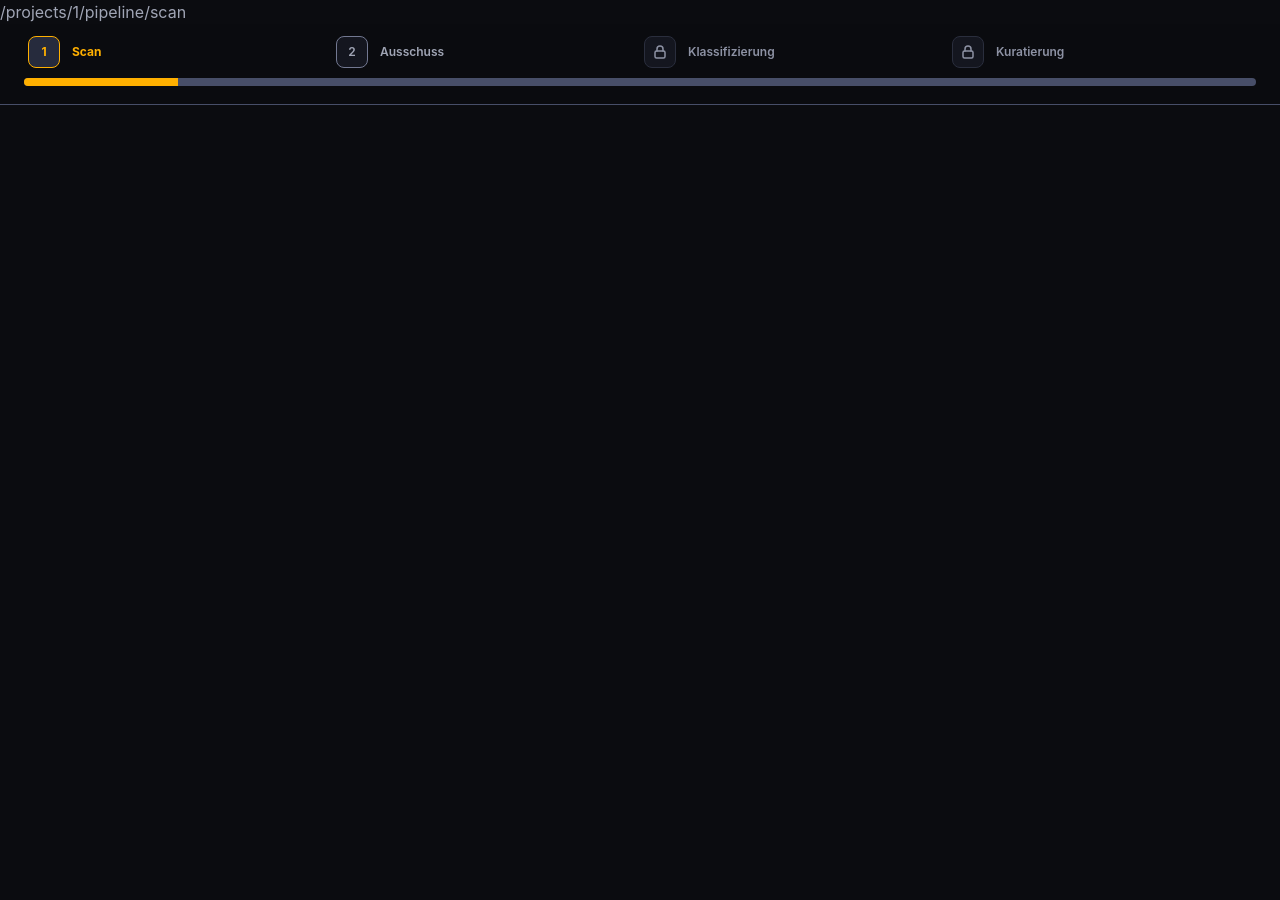
Test: Stepper › shows the criterion-scoring reason for a blocked kuratierung step
The image size is (1280, 900).
Click the button with aria-label "Schritt 4 von 4: Kuratierung, gesperrt" at (968, 52), box [948, 36, 1256, 68]
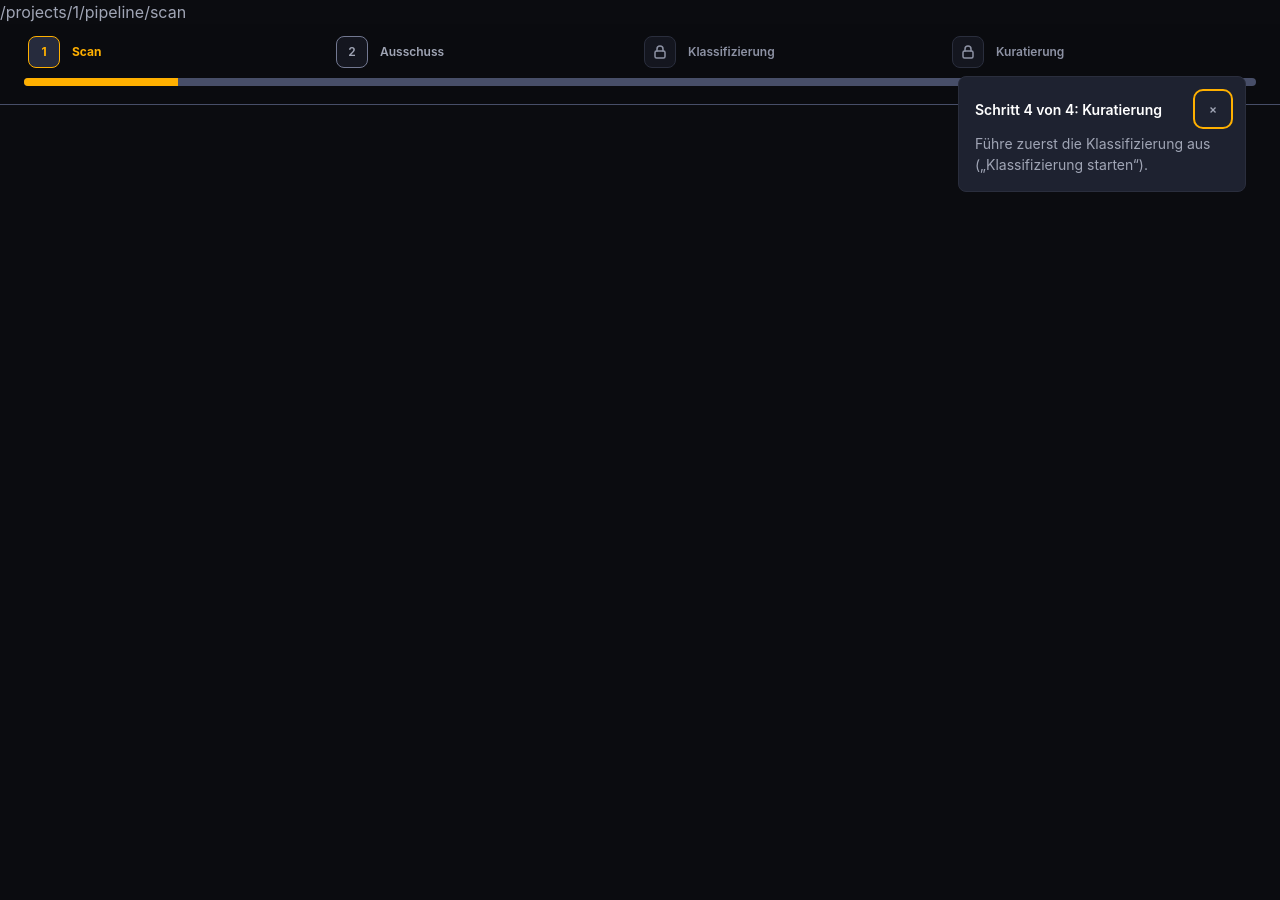
Now the text "Führe zuerst die Klassifizierung aus („Klassifizierung starten“)." is shown, box [975, 133, 1229, 175]
